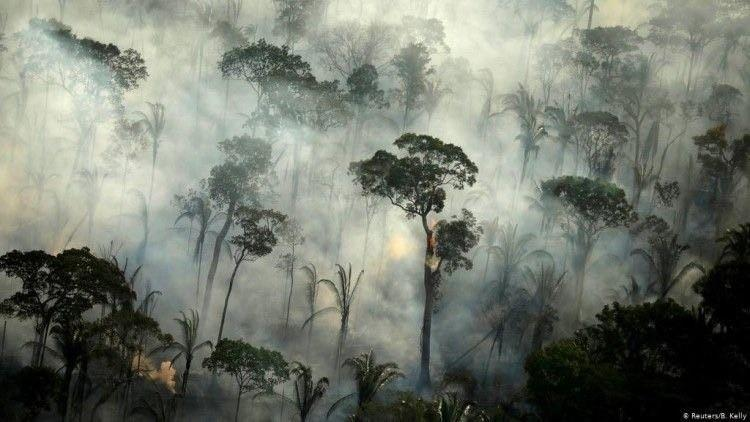smoke: (29, 37, 608, 412)
